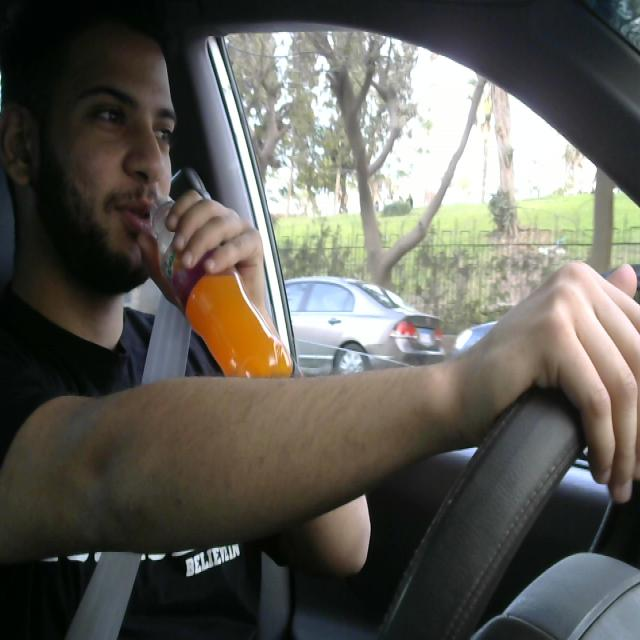drinking: (140, 195, 294, 392)
